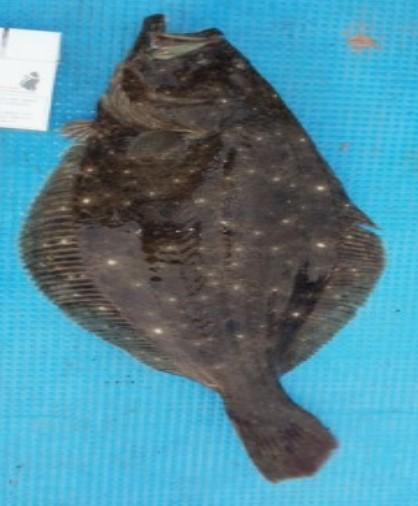fish: (19, 14, 386, 487)
